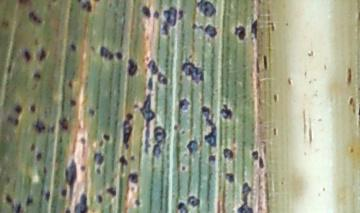tarspot: (140, 93, 156, 153), (199, 104, 217, 149), (145, 60, 168, 92), (236, 181, 254, 213), (180, 62, 204, 85), (160, 7, 178, 35), (121, 113, 134, 151), (151, 126, 166, 156), (64, 158, 78, 188), (194, 1, 217, 19), (73, 193, 88, 213), (218, 102, 233, 121), (99, 45, 115, 61), (233, 24, 248, 41), (32, 117, 46, 134), (126, 58, 138, 77), (177, 97, 191, 112), (118, 153, 128, 174), (27, 11, 42, 25), (186, 139, 199, 155), (250, 18, 259, 41), (306, 116, 313, 145), (187, 195, 201, 208), (204, 24, 217, 38), (92, 152, 105, 166), (57, 117, 70, 131), (77, 1, 92, 13), (302, 105, 307, 140), (345, 66, 354, 85), (222, 147, 234, 161), (21, 49, 32, 64), (140, 5, 152, 18), (42, 190, 53, 204), (189, 21, 204, 31), (176, 201, 188, 213), (223, 172, 235, 183), (105, 186, 117, 197), (127, 171, 138, 183), (349, 96, 356, 114), (13, 103, 23, 115), (95, 193, 104, 206), (254, 54, 260, 73), (261, 55, 269, 69), (38, 47, 46, 61), (41, 164, 50, 176), (67, 98, 77, 108), (207, 154, 218, 163), (29, 103, 38, 114), (251, 149, 259, 161), (35, 152, 43, 164), (17, 1, 33, 7), (272, 93, 280, 105), (257, 156, 264, 169), (67, 77, 74, 90), (93, 166, 102, 176), (102, 132, 111, 142), (4, 194, 13, 204), (178, 8, 184, 23), (28, 141, 36, 152), (7, 62, 13, 76), (60, 189, 69, 198), (306, 49, 315, 58), (115, 51, 123, 61), (26, 195, 34, 205), (14, 203, 22, 213), (87, 108, 95, 118), (88, 44, 96, 54), (272, 125, 278, 138), (31, 72, 42, 79), (133, 198, 142, 206), (12, 117, 20, 126), (152, 9, 159, 19), (1, 20, 11, 27), (269, 20, 275, 31), (315, 116, 323, 124), (79, 136, 86, 145), (172, 123, 179, 132), (286, 77, 293, 86), (79, 164, 85, 174), (322, 62, 328, 72), (180, 164, 187, 172), (69, 42, 76, 50), (357, 103, 360, 121), (133, 102, 139, 111), (7, 114, 13, 122), (349, 146, 355, 154), (9, 54, 15, 62), (179, 128, 185, 135), (56, 135, 63, 141), (107, 1, 113, 8), (64, 208, 71, 213), (256, 1, 263, 6), (284, 21, 289, 27), (91, 1, 100, 3)
